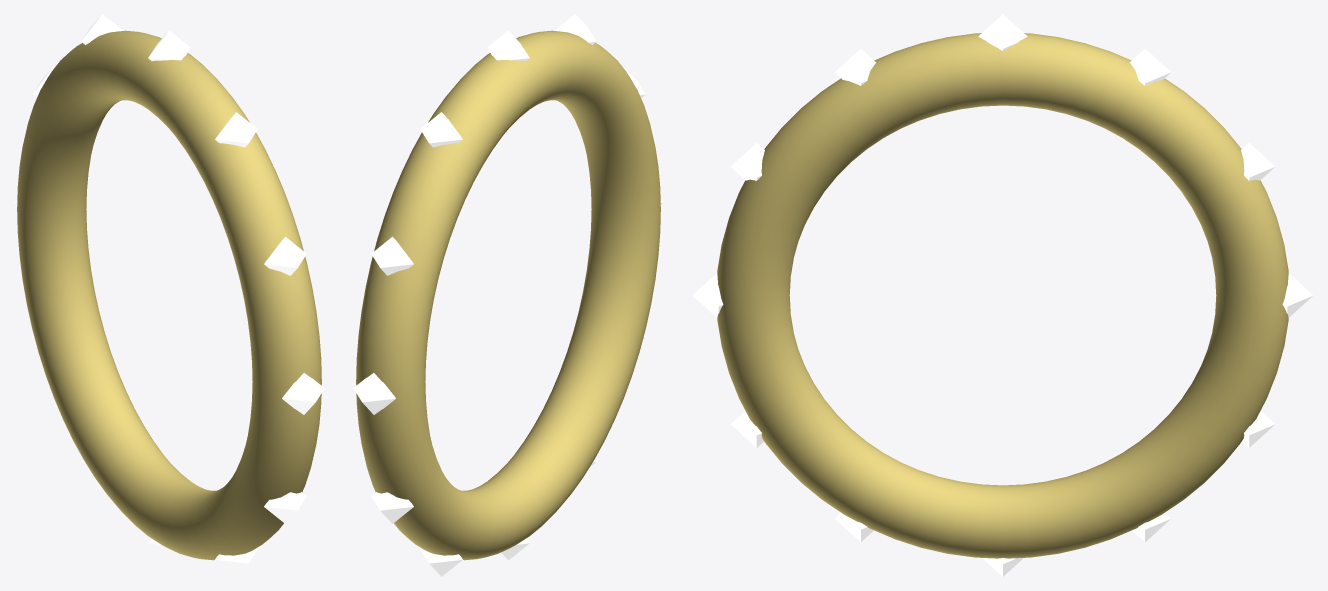
The picture shows the model from 3 angles, left to right: view 1: azimuth 30°, elevation 25°; view 2: azimuth 150°, elevation 25°; view 3: azimuth 270°, elevation 25°; orthographic projection. The views are drawn at different scales.
Visible parts, largest first — view 1: part (×8); view 2: part (×8); view 3: part (×6).
Boxes of the visible parts, left/top/right/bottom form: part (×8): left=17, top=14, right=324, bottom=576; part (×8): left=353, top=14, right=660, bottom=576; part (×6): left=717, top=14, right=1288, bottom=558.
Bounding box in the file's own units: 0.056 × 0.472 × 0.472.
